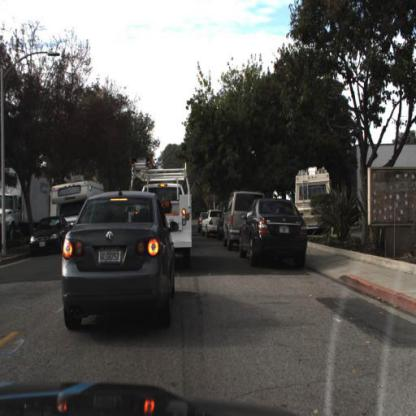car: (59, 188, 182, 334), (237, 195, 310, 272), (165, 163, 198, 271), (223, 188, 267, 251), (49, 173, 101, 225), (201, 207, 224, 243), (216, 200, 228, 246)
truck: (143, 181, 196, 261), (1, 166, 50, 243), (289, 159, 335, 240), (51, 176, 105, 232)
